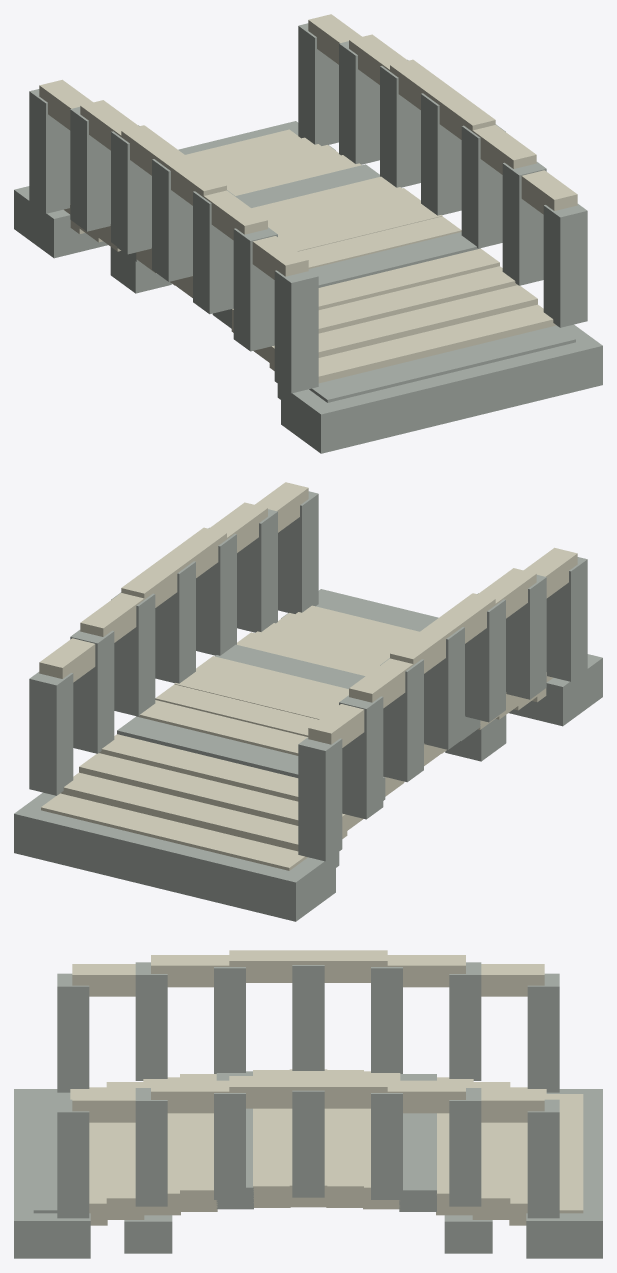
File: SM_BrookBridge.fbx
3 views of the same model, one above another, from view 1: azimuth 30°, elevation 25°; view 2: azimuth 150°, elevation 25°; view 3: azimuth 270°, elevation 25° (orthographic). The views are drawn at different scales.
Visible parts, largest first — view 1: SM_BrookBridge; view 2: SM_BrookBridge; view 3: SM_BrookBridge.
Boxes of the visible parts, x1=… form: SM_BrookBridge: x1=14, y1=14, x2=602, y2=453; SM_BrookBridge: x1=14, y1=482, x2=602, y2=921; SM_BrookBridge: x1=14, y1=950, x2=602, y2=1258.
Bounding box in the file's own units: 2.05 × 3.68 × 1.29.
